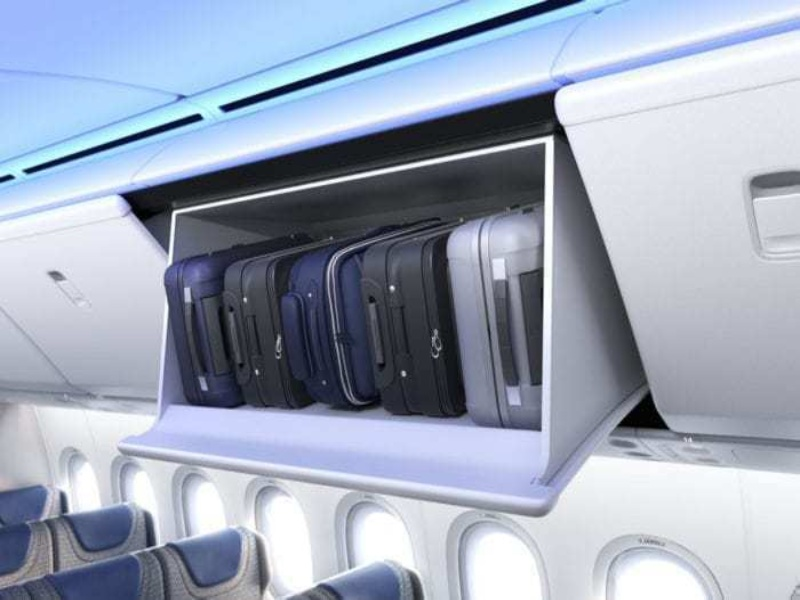close_bin: (562, 64, 800, 429), (3, 186, 190, 406)
open_bin: (161, 84, 655, 506)
